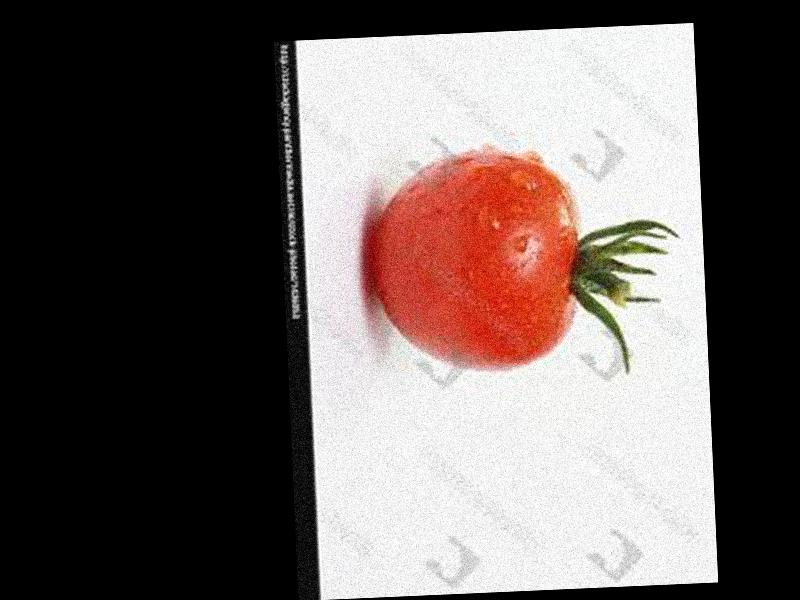Tomato: (368, 147, 580, 376)
